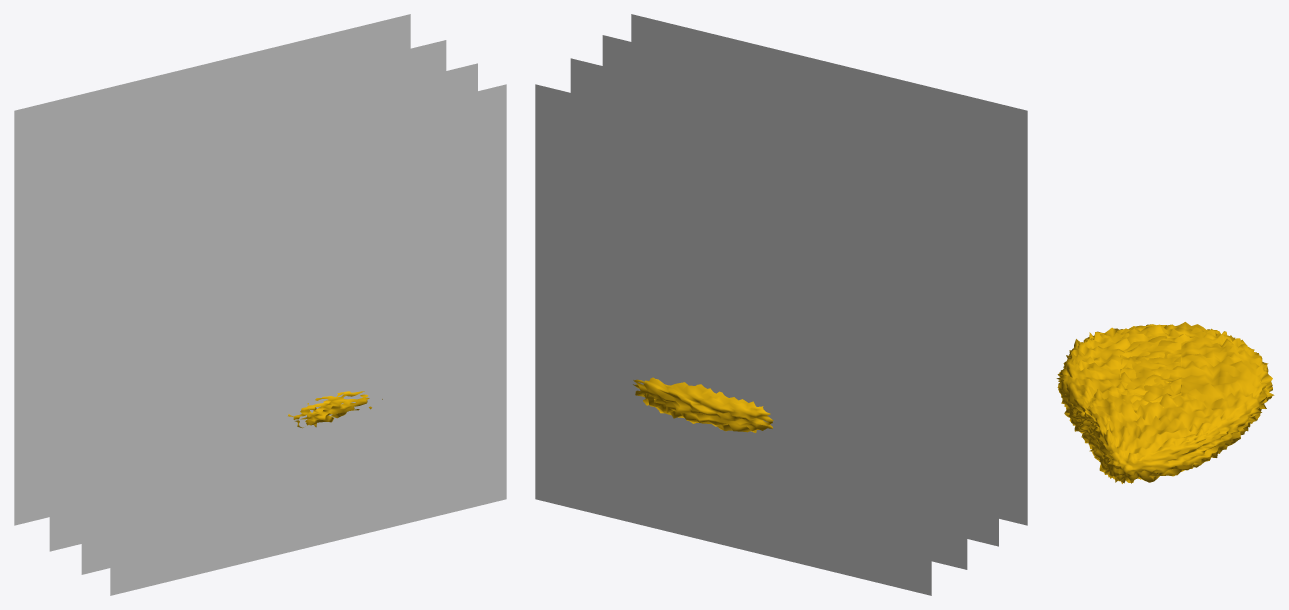
File: 切ったカツ３.fbx
The picture shows the model from 3 angles, left to right: view 1: azimuth 30°, elevation 25°; view 2: azimuth 150°, elevation 25°; view 3: azimuth 270°, elevation 25°; orthographic projection. The views are drawn at different scales.
Visible parts, largest first — view 1: 平面.002, 平面.005, 平面.004, 平面.003, 平面; view 2: 平面.005, 平面.004, 平面.003, 平面.002, 平面; view 3: 平面, 平面.001.
Boxes of the visible parts, <box> form: 平面.002: <box>110,84,506,595</box>; 平面.005: <box>14,14,410,525</box>; 平面.004: <box>49,40,446,551</box>; 平面.003: <box>81,63,477,574</box>; 平面: <box>288,391,382,428</box>; 平面.005: <box>535,84,931,595</box>; 平面.004: <box>570,58,967,569</box>; 平面.003: <box>602,35,998,546</box>; 平面.002: <box>631,14,1027,525</box>; 平面: <box>633,377,773,432</box>; 平面: <box>1056,322,1274,483</box>; 平面.001: <box>1120,328,1181,412</box>.
Bounding box in the file's own units: 418 × 400 × 200.
